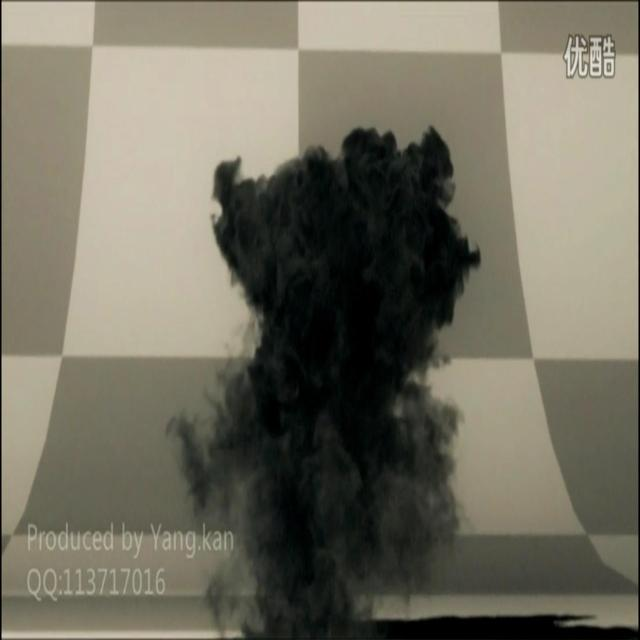smoke: (168, 124, 480, 640)
